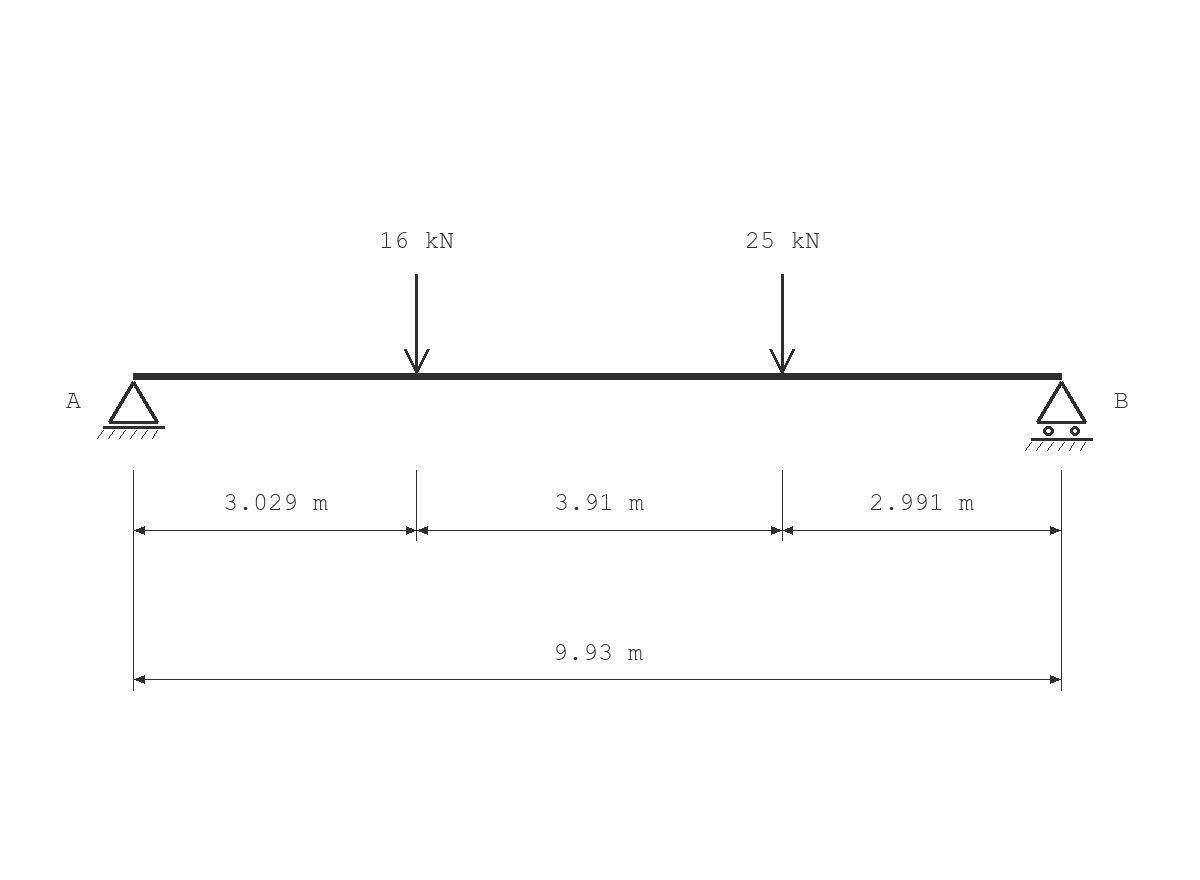pin_support: (97, 381, 165, 439)
point_load: (404, 274, 430, 373), (769, 274, 795, 373)
roller_support: (1025, 381, 1093, 451)
